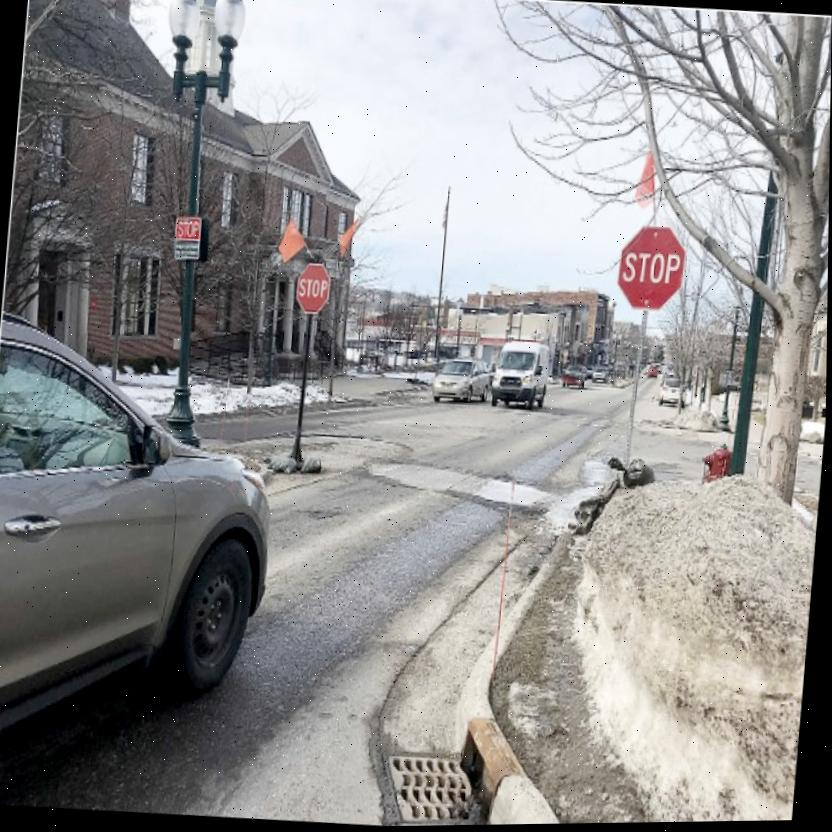Pole: (173, 260, 197, 434), (626, 312, 650, 464), (294, 315, 315, 463)
Sign: (616, 228, 688, 314), (296, 263, 333, 316)
